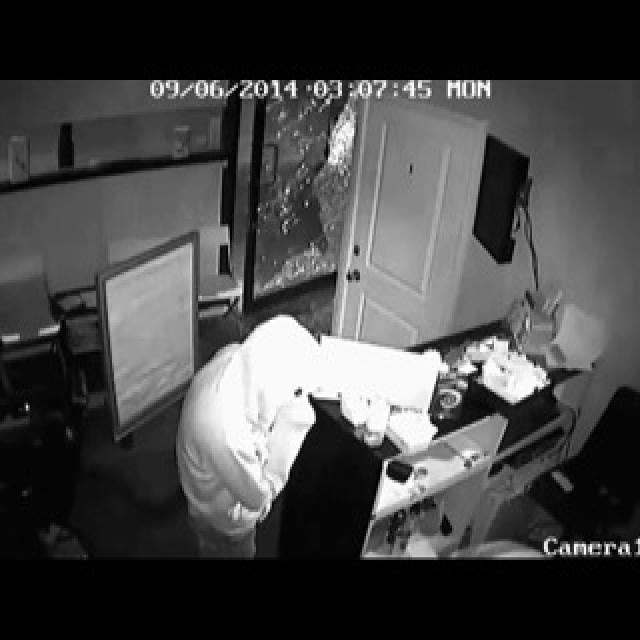thief: (162, 310, 332, 530)
